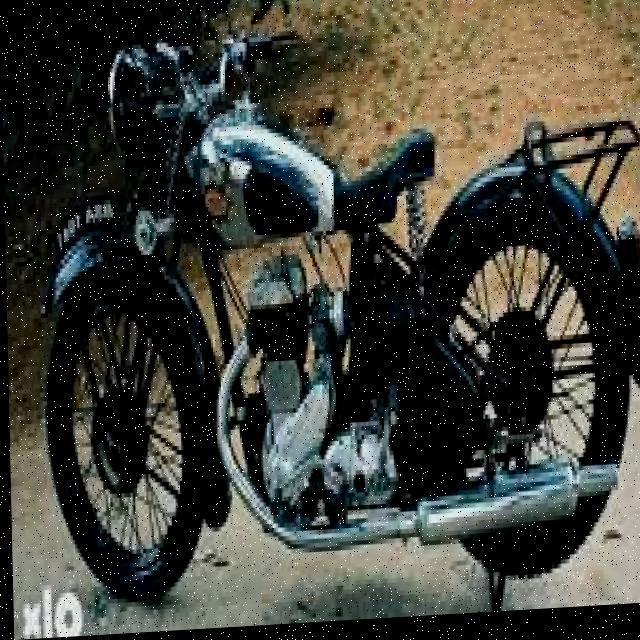bike: (28, 14, 640, 621)
